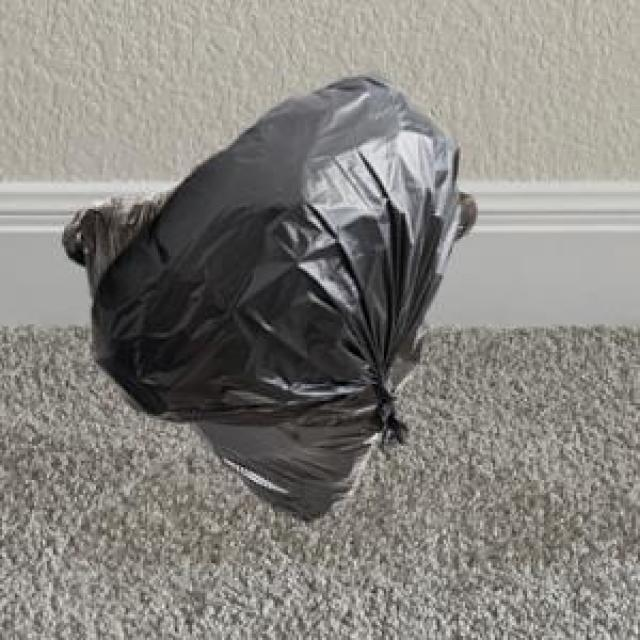miscellaneous trash: (58, 177, 472, 518), (88, 68, 457, 448)
